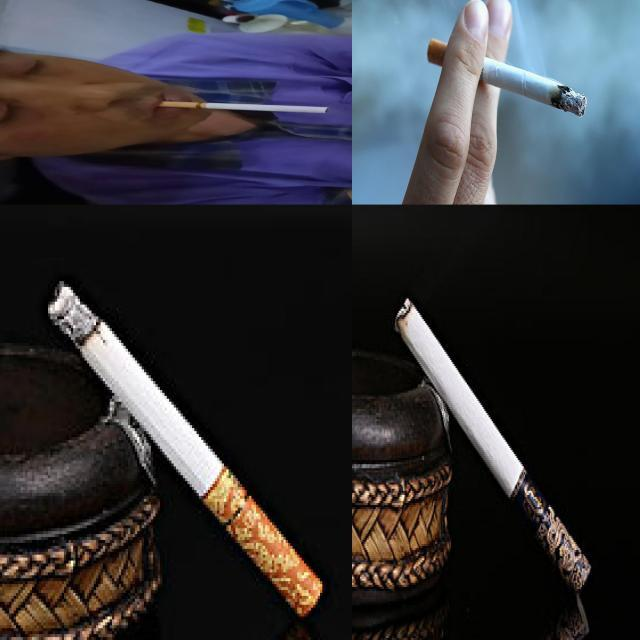smoking: (43, 272, 324, 614), (394, 295, 592, 596), (428, 38, 588, 117), (158, 101, 330, 114)
